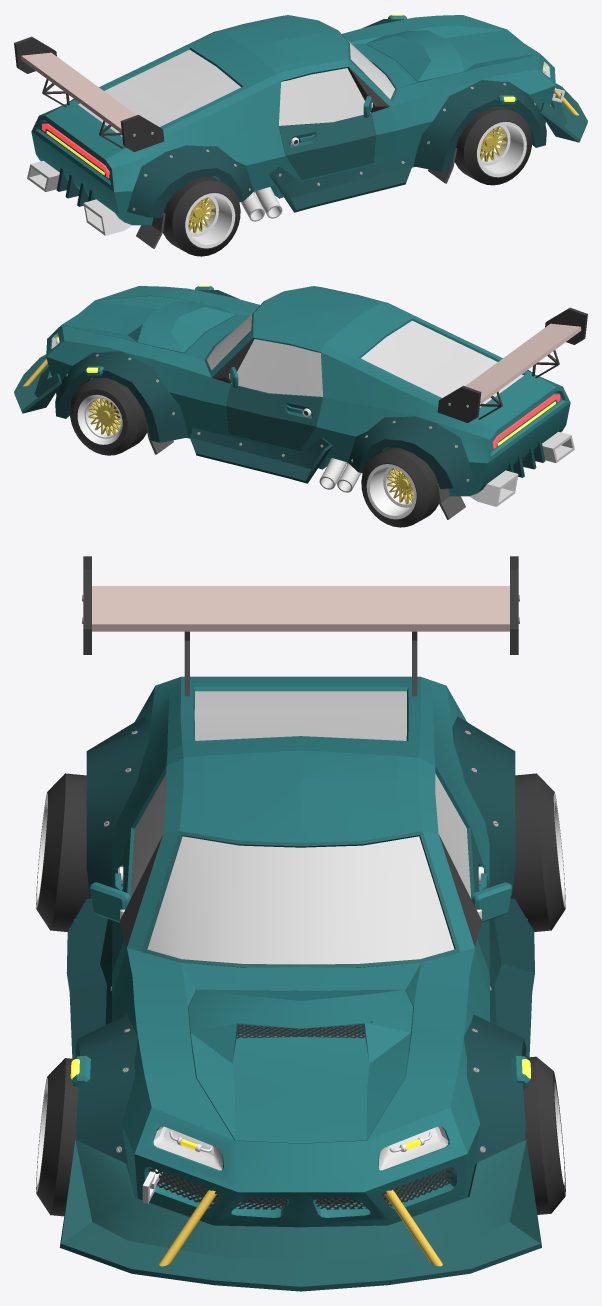
File: Car.fbx
3 renders of one model, top to bottom at view 1: azimuth 30°, elevation 25°; view 2: azimuth 150°, elevation 25°; view 3: azimuth 270°, elevation 25°, orthographic. The views are drawn at different scales.
Visible parts, largest first — view 1: Cube.011, Cube.009, Cube.006, Cube.012, Cube.014, Cube.045, Cube.018, Cube.013, Cylinder.103, Cube.017, Cylinder.003, Cube.026 (+13 smaller); view 2: Cube.011, Cube.009, Cube.006, Cube.012, Cube.014, Cube.045, Cube.018, Cube.013, Cylinder.001, Cube.017, Cylinder.003, Cube.026 (+13 smaller); view 3: Cube.006, Plane.004, Cube.027, Cube.011, Cube.014, Plane, Cylinder.003, Cube.018, Cube.013, Cube.012, Plane.005, Cube.045 (+12 smaller).
Boxes of the visible parts, x1=… form: Cube.011: x1=190, y1=15, x2=391, y2=133; Cube.009: x1=31, y1=63, x2=397, y2=225; Cube.006: x1=342, y1=15, x2=555, y2=167; Cube.012: x1=39, y1=43, x2=254, y2=168; Cube.014: x1=366, y1=25, x2=539, y2=81; Cube.045: x1=78, y1=49, x2=240, y2=136; Cube.018: x1=362, y1=19, x2=546, y2=171; Cube.013: x1=69, y1=99, x2=253, y2=217; Cylinder.103: x1=454, y1=107, x2=532, y2=185; Cube.017: x1=278, y1=113, x2=375, y2=180; Cylinder.003: x1=163, y1=176, x2=240, y2=256; Cube.026: x1=279, y1=68, x2=370, y2=125; Cube.011: x1=210, y1=286, x2=411, y2=404; Cube.009: x1=204, y1=334, x2=570, y2=496; Cube.006: x1=46, y1=286, x2=259, y2=438; Cube.012: x1=347, y1=314, x2=562, y2=439; Cube.014: x1=62, y1=296, x2=235, y2=352; Cube.045: x1=361, y1=320, x2=523, y2=407; Cube.018: x1=55, y1=290, x2=239, y2=442; Cube.013: x1=348, y1=370, x2=532, y2=488; Cylinder.001: x1=69, y1=378, x2=146, y2=455; Cube.017: x1=226, y1=384, x2=323, y2=451; Cylinder.003: x1=361, y1=447, x2=438, y2=527; Cube.026: x1=231, y1=339, x2=322, y2=396; Cube.006: x1=112, y1=948, x2=489, y2=1227; Plane.004: x1=59, y1=1140, x2=541, y2=1291; Cube.027: x1=147, y1=836, x2=454, y2=964; Cube.011: x1=127, y1=738, x2=474, y2=951; Cube.014: x1=188, y1=989, x2=413, y2=1143; Plane: x1=92, y1=586, x2=509, y2=631; Cylinder.003: x1=36, y1=773, x2=565, y2=931; Cube.018: x1=75, y1=1014, x2=526, y2=1176; Cube.013: x1=86, y1=716, x2=515, y2=895; Cube.012: x1=140, y1=676, x2=461, y2=790; Plane.005: x1=66, y1=898, x2=534, y2=1058; Cube.045: x1=194, y1=691, x2=406, y2=740.
Bounding box in the file's own units: 389 × 180 × 112.
